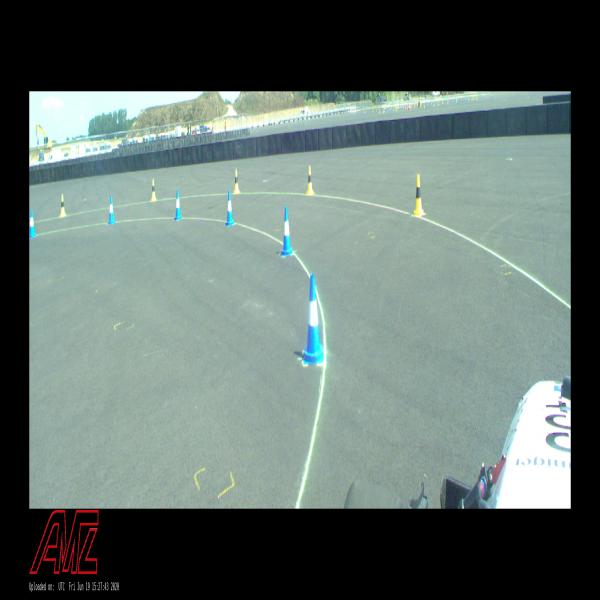blue_cone: (303, 274, 324, 364), (280, 206, 292, 256), (225, 190, 234, 226), (174, 189, 182, 221), (107, 197, 115, 224), (29, 210, 36, 238)
yellow_cone: (412, 175, 424, 216), (306, 166, 313, 194), (233, 170, 239, 193), (150, 180, 156, 202), (60, 195, 66, 216)
